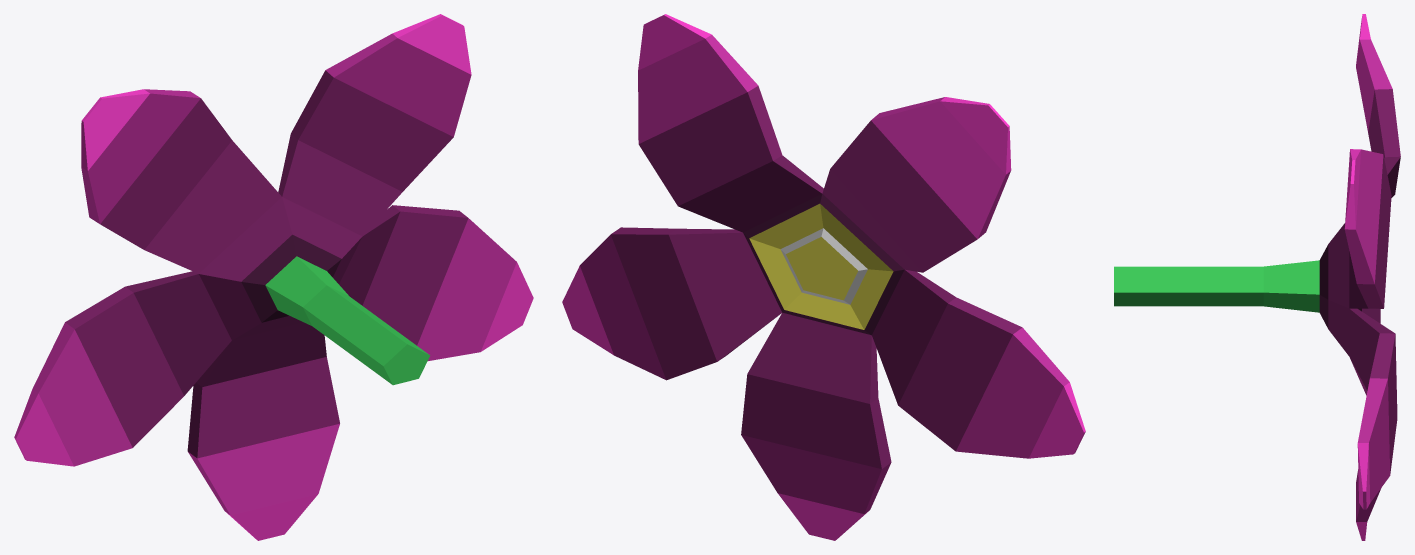
File: Flower1_animated.FBX
3 views of the same model, side by side, from view 1: azimuth 30°, elevation 25°; view 2: azimuth 150°, elevation 25°; view 3: azimuth 270°, elevation 25° (orthographic). The views are drawn at different scales.
Visible parts, largest first — view 1: Cube; view 2: Cube; view 3: Cube.
Part boxes in pixels (x1=…): Cube: x1=14, y1=14, x2=533, y2=540; Cube: x1=562, y1=14, x2=1085, y2=540; Cube: x1=1114, y1=14, x2=1400, y2=540.
Bounding box in the file's own units: 298 × 264 × 153.
